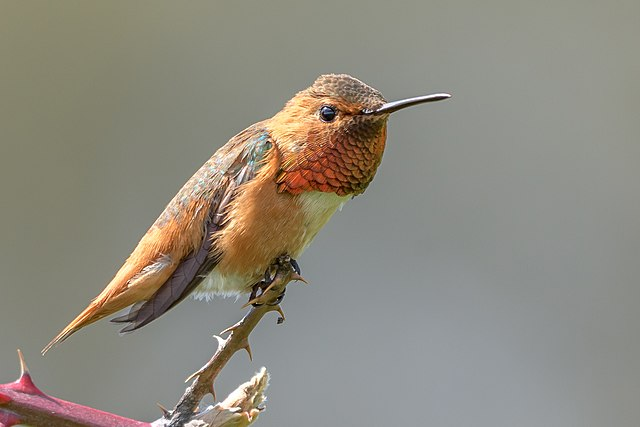selasphorus sasin: (43, 72, 449, 353)
